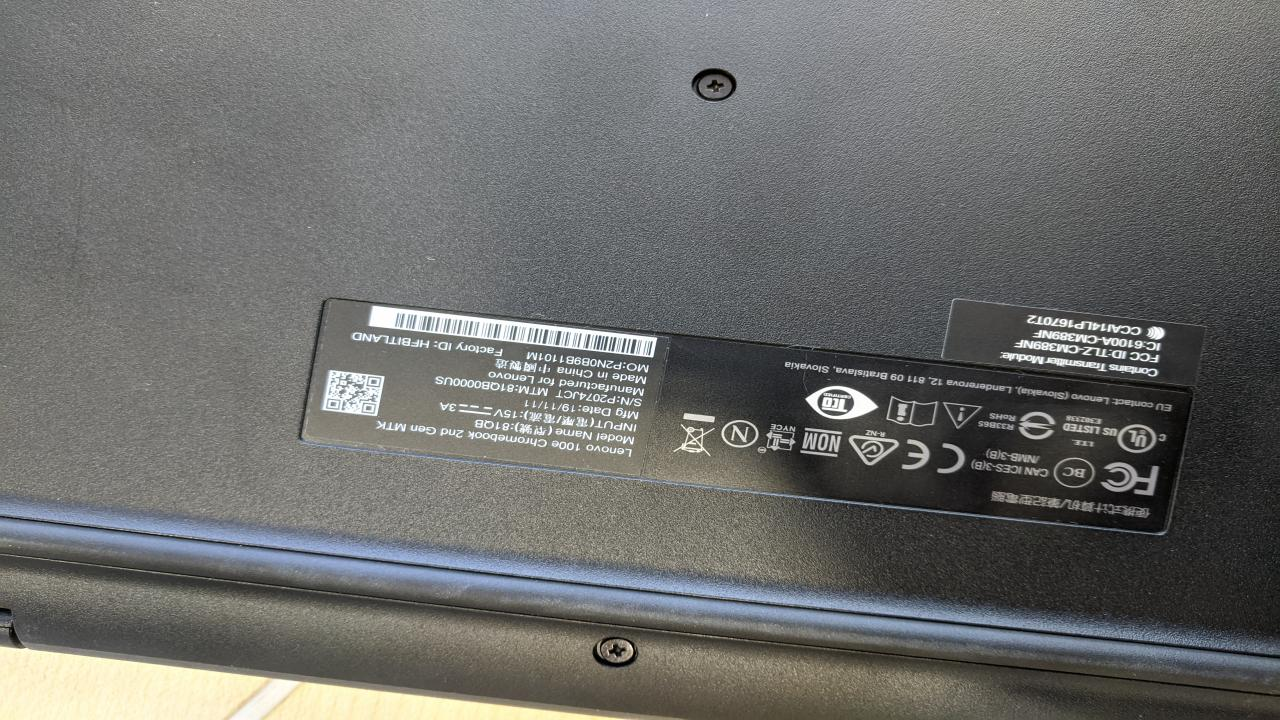CRS: (694, 70, 736, 104), (596, 634, 638, 666)
